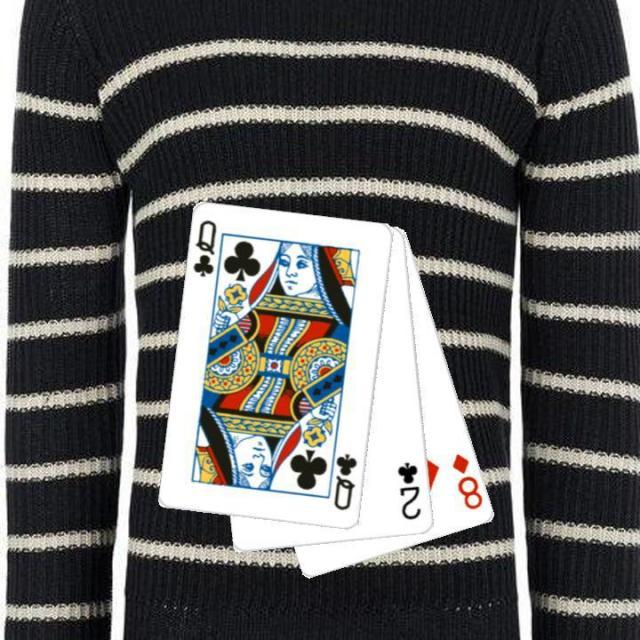2C: (394, 458, 424, 522)
8D: (448, 450, 486, 512)
QC: (330, 450, 360, 513), (189, 216, 219, 279)
